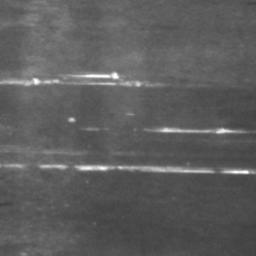Bright scratch: (0, 72, 143, 88), (76, 165, 216, 174), (146, 128, 248, 136), (38, 164, 69, 172), (223, 169, 251, 175)
